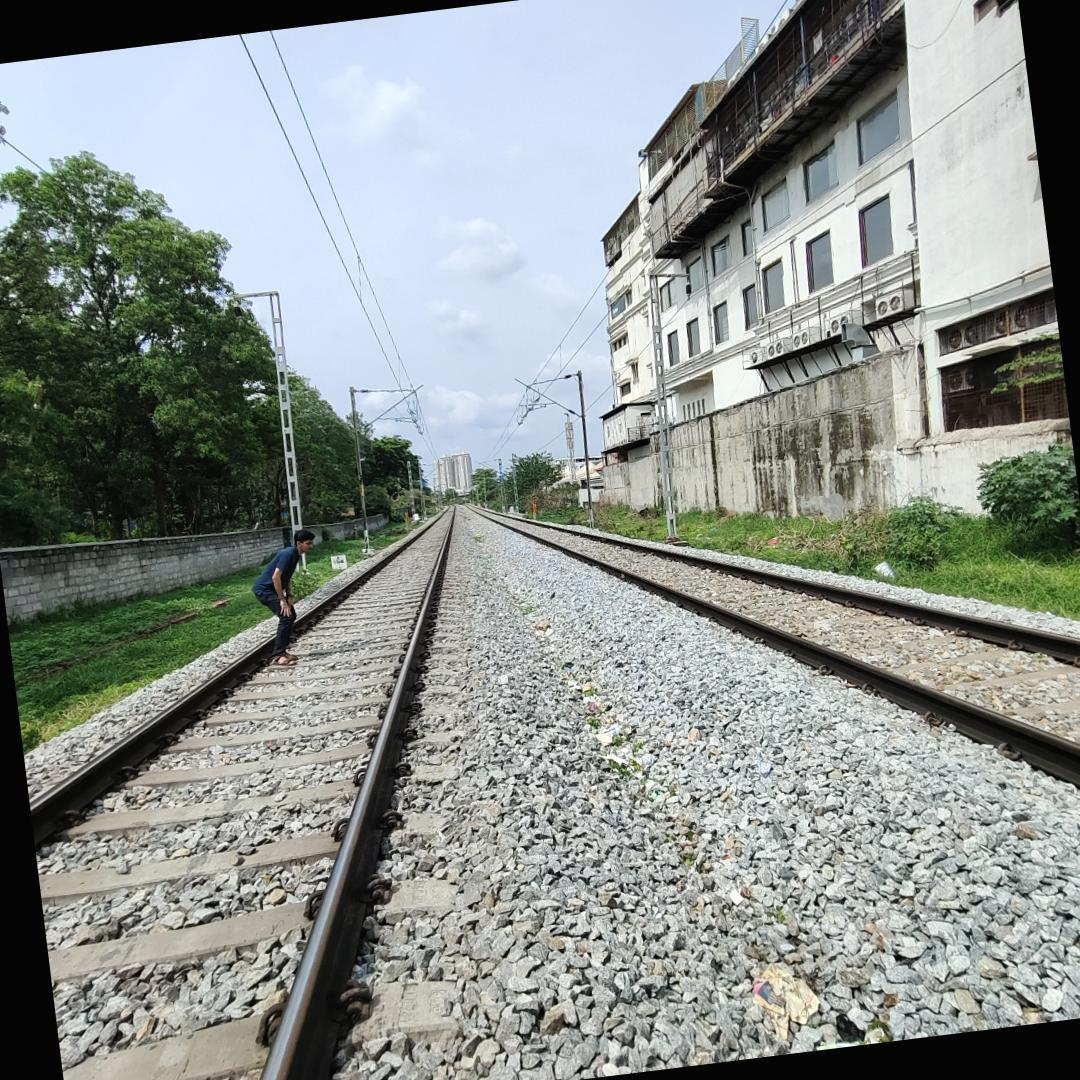standing: (242, 526, 320, 681)
track: (29, 497, 449, 1080)
